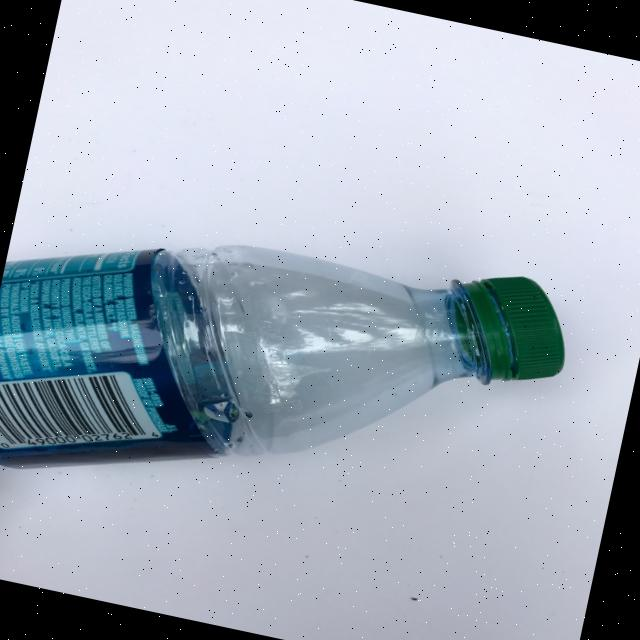plastic: (0, 168, 580, 589)
